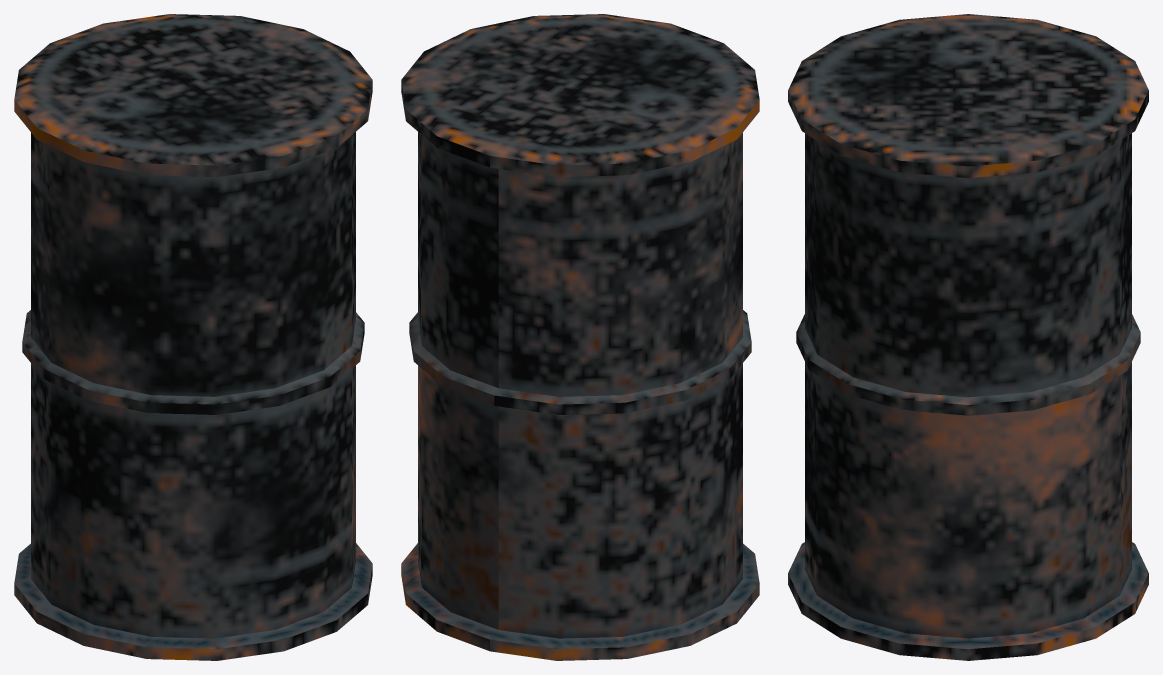
The model's file is SM_barrel.fbx.
3 views of the same model, side by side, from view 1: azimuth 30°, elevation 25°; view 2: azimuth 150°, elevation 25°; view 3: azimuth 270°, elevation 25° (orthographic).
Parts seen in each view (by area): view 1: SM_barrel; view 2: SM_barrel; view 3: SM_barrel.
Part boxes in pixels (x1,y1,x2,y2): SM_barrel: (14, 14, 372, 660); SM_barrel: (401, 14, 759, 660); SM_barrel: (788, 14, 1148, 660).
Size of the model in its own units: 71.68 by 110 by 71.68.
